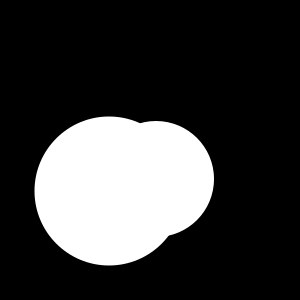rectangle: (35, 117, 184, 266), (98, 121, 214, 237)
triangle: (194, 157, 204, 167)
